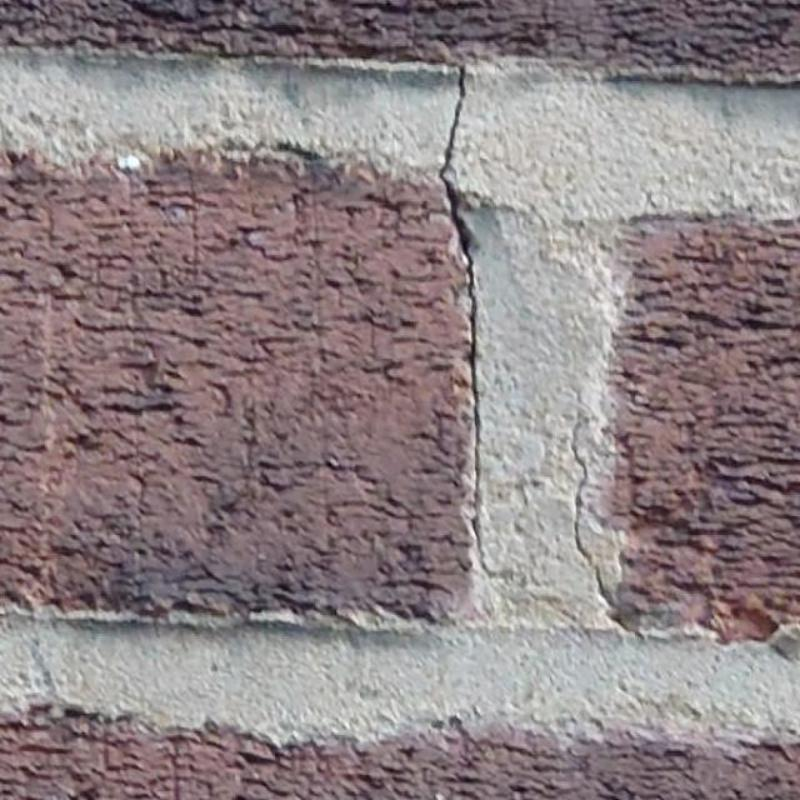crack: (439, 66, 494, 582), (573, 416, 649, 642)
